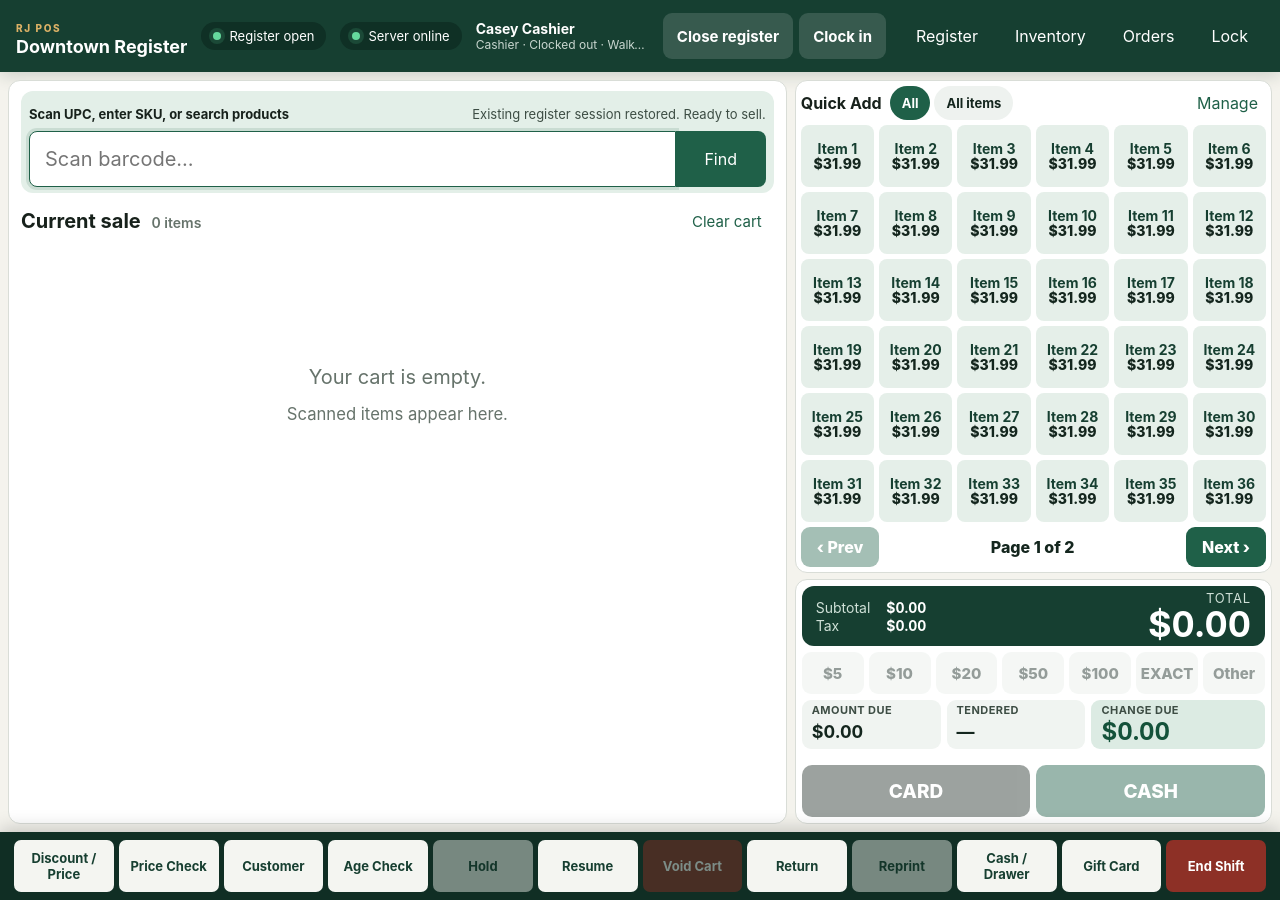
Test: Cash tender, change due, Quick Add grid, and age check › pages Quick Add as a fixed 6 x 6 grid of 36 buttons
Expected: the button named "Item 1$" is shown, x1=801 y1=125 x2=874 y2=187
Expected: the text "Page 1 of 2" is shown, x1=991 y1=537 x2=1074 y2=557
Click the button with aria-label "Next Quick Add page" at (1226, 547), box x1=1186 y1=527 x2=1266 y2=567
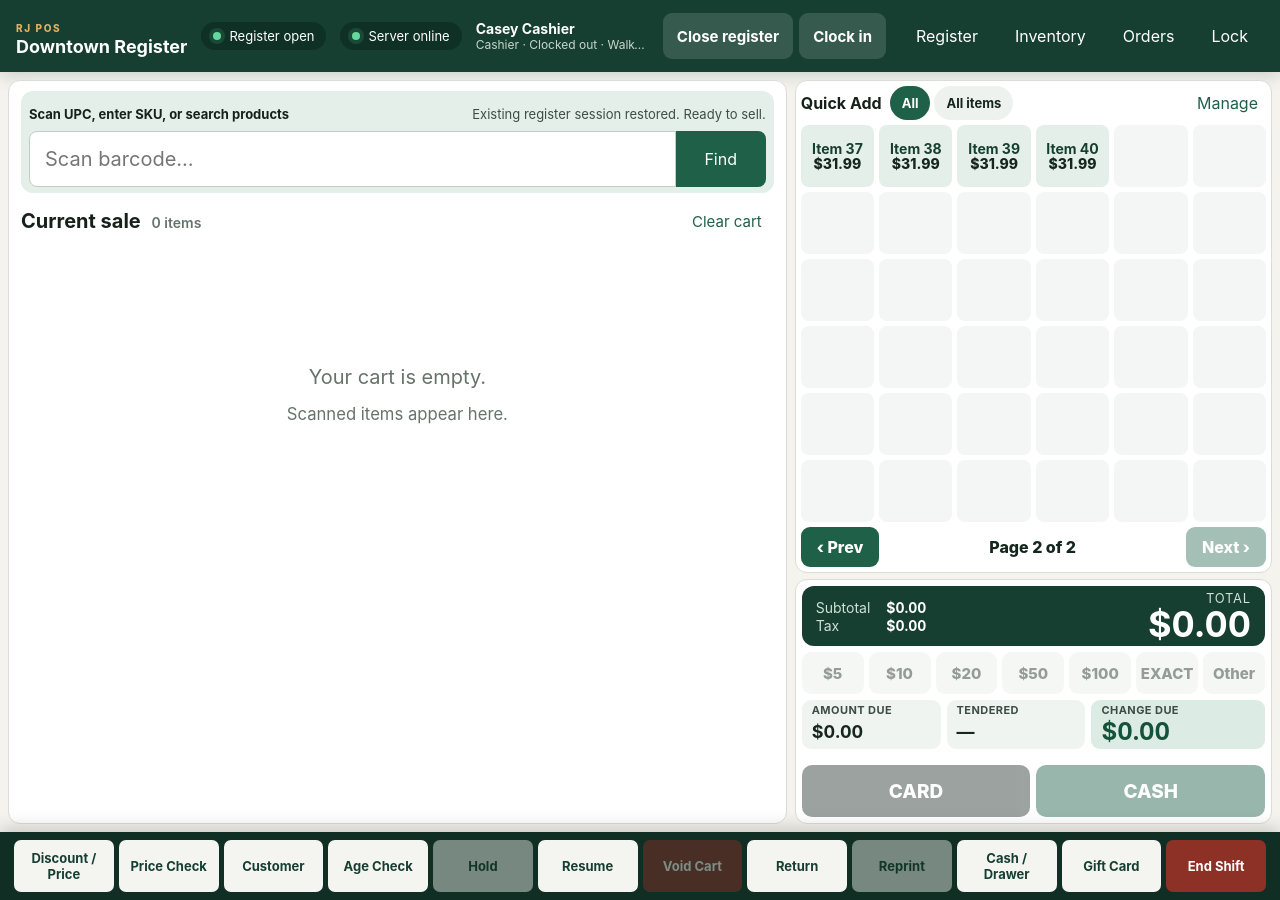
Result: the text "Page 2 of 2" is shown at x1=989 y1=537 x2=1076 y2=557
Click the button named "Item 37$" at (837, 156), box x1=801 y1=125 x2=874 y2=187
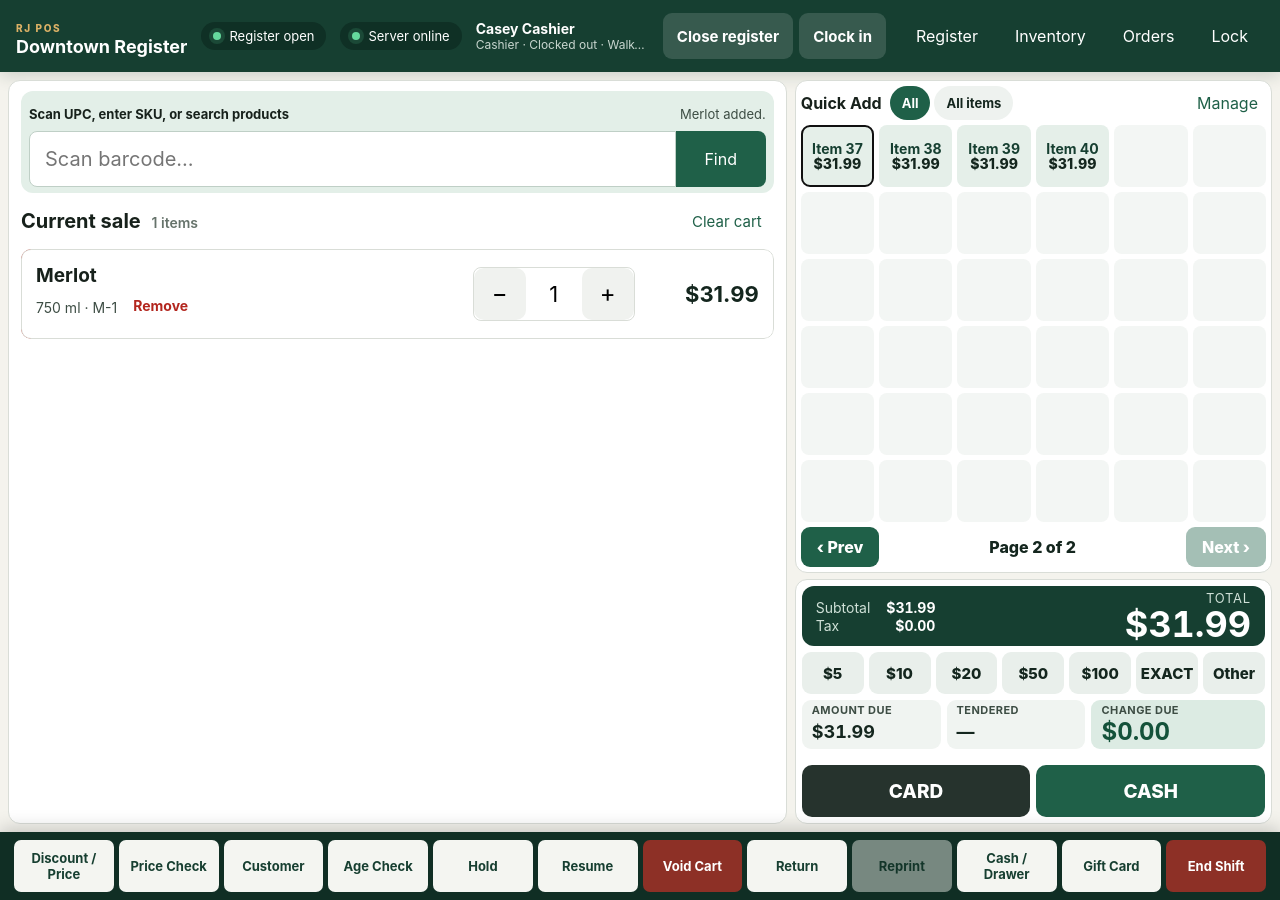
Result: the field named "Quantity" is shown at x1=526 y1=268 x2=582 y2=320
